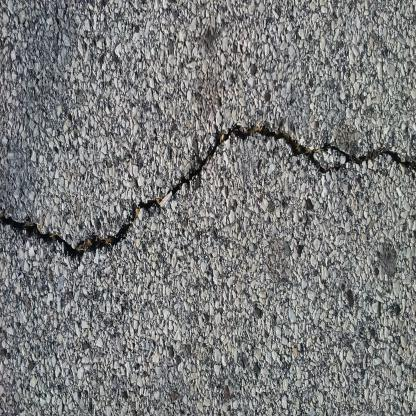Cracks: (0, 118, 416, 267)
